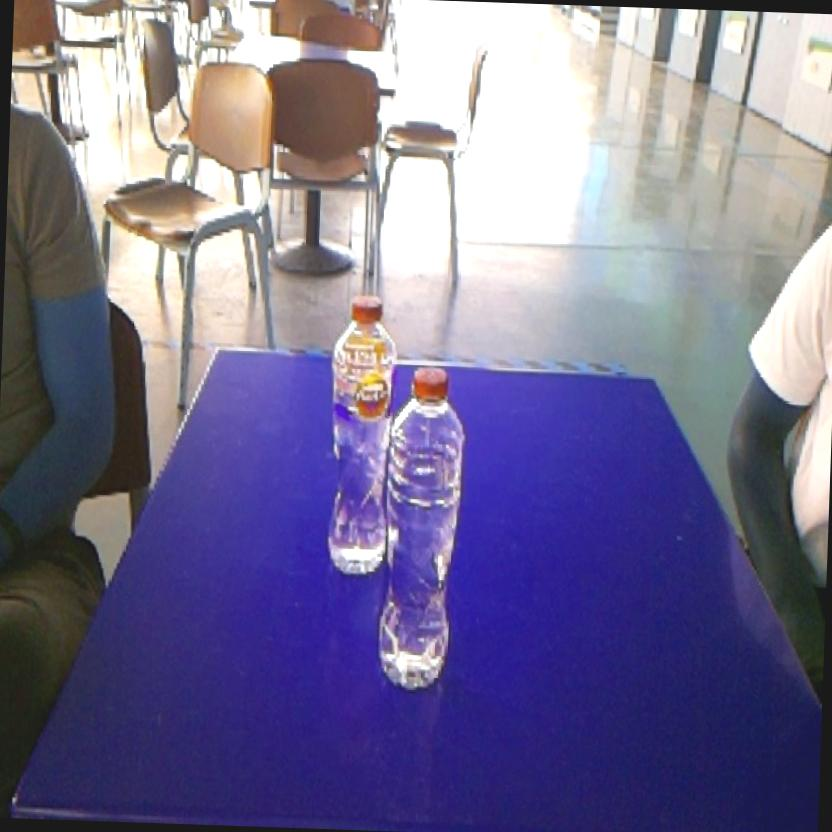good: (319, 286, 400, 582)
no_label: (378, 368, 472, 701)
